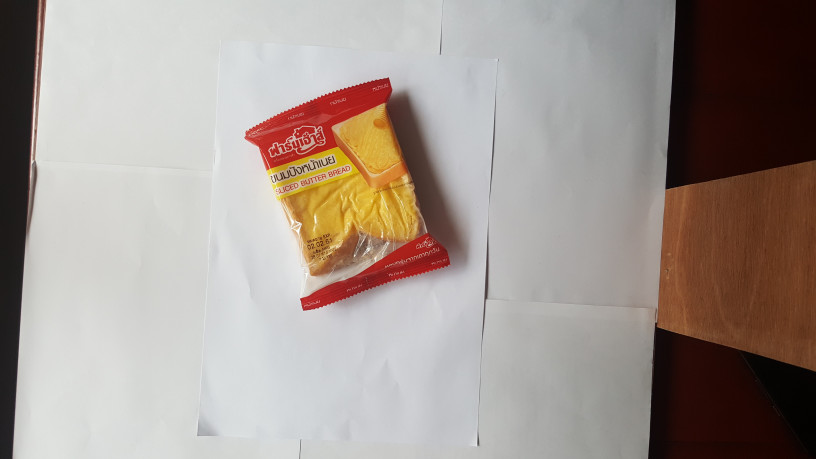farmhouse-bread-butter: (242, 71, 458, 320)
